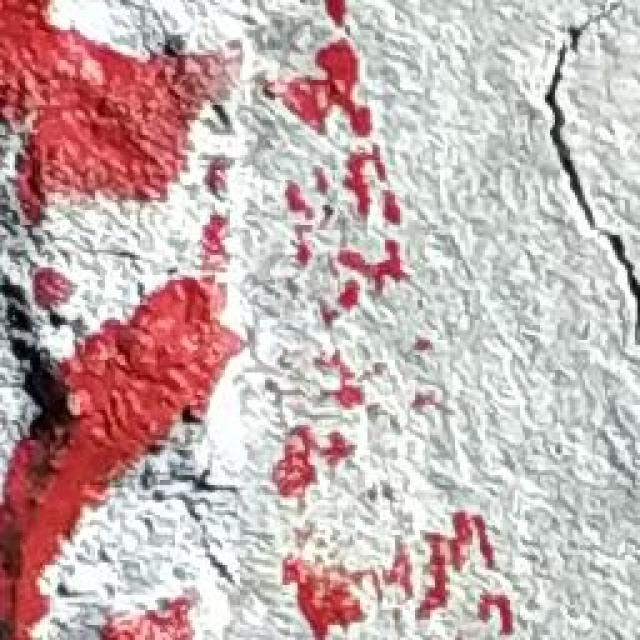Longitudinal: (523, 0, 640, 371)
Rippled: (0, 0, 515, 640)
